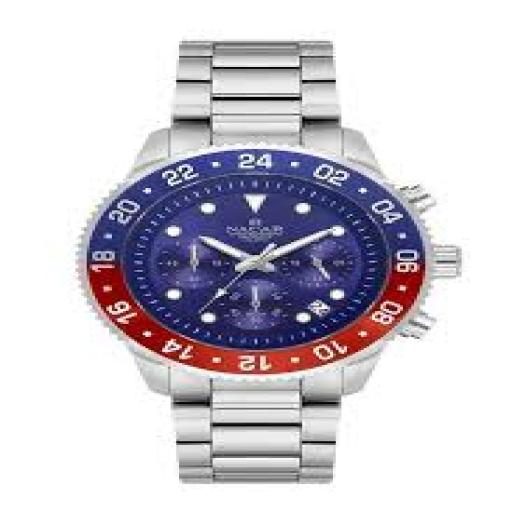KolSaati: (60, 21, 462, 487)
